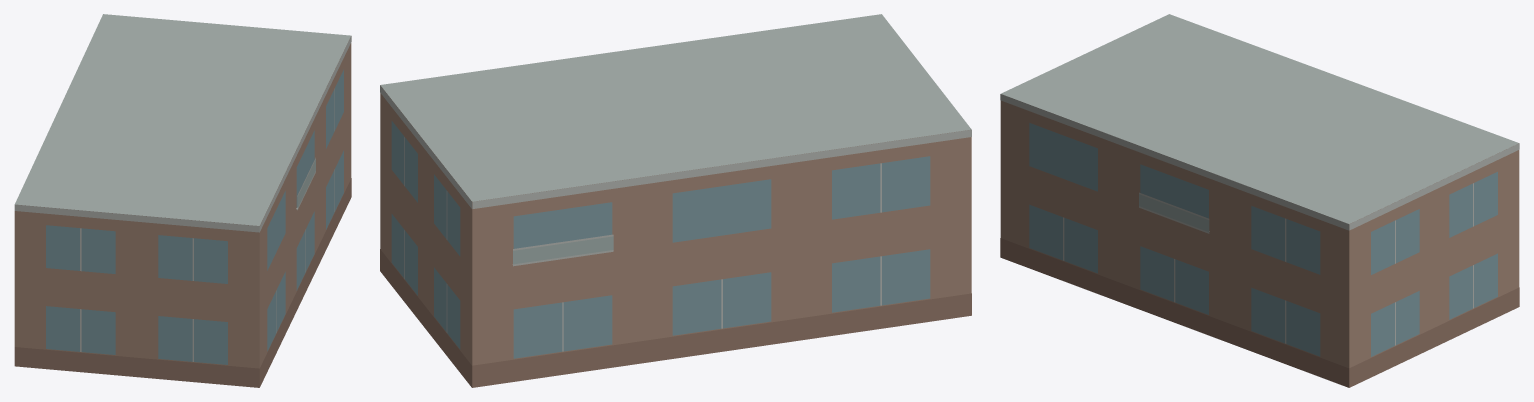
The model's file is survey-upis-32889846.glb.
3 renders of one model, left to right at view 1: azimuth 30°, elevation 25°; view 2: azimuth 150°, elevation 25°; view 3: azimuth 270°, elevation 25°, orthographic. The views are drawn at different scales.
Visible parts, largest first — view 1: survey-upis-32889846.tmp; view 2: survey-upis-32889846.tmp; view 3: survey-upis-32889846.tmp.
Part boxes in pixels (x1,y1,x2,y2): survey-upis-32889846.tmp: (14, 14, 351, 387); survey-upis-32889846.tmp: (380, 14, 971, 387); survey-upis-32889846.tmp: (1000, 14, 1519, 387).
Bounding box in the file's own units: 16.8 × 6.1 × 17.53.
